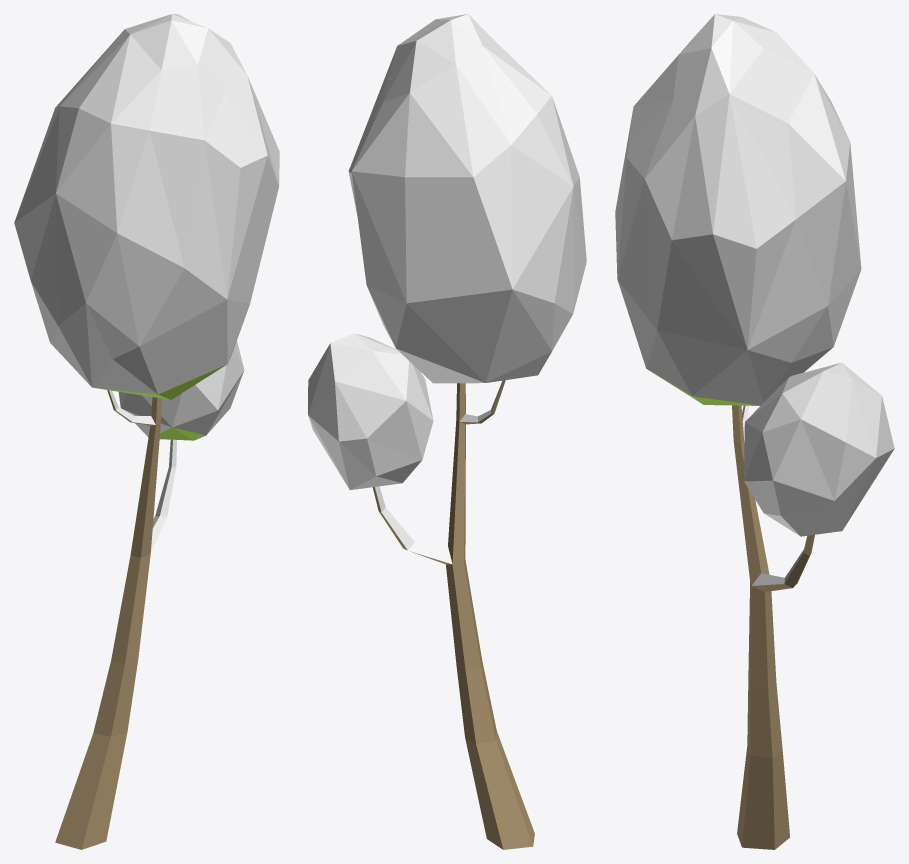
The model's file is Random_Tree_m_Snow_11_LOD.fbx.
3 views of the same model, side by side, from view 1: azimuth 30°, elevation 25°; view 2: azimuth 150°, elevation 25°; view 3: azimuth 270°, elevation 25° (orthographic). The views are drawn at different scales.
Parts seen in each view (by area): view 1: Random_Tree_m_Snow_11_LOD0; view 2: Random_Tree_m_Snow_11_LOD0; view 3: Random_Tree_m_Snow_11_LOD0.
Boxes of the visible parts, x1=… form: Random_Tree_m_Snow_11_LOD0: x1=14, y1=14, x2=279, y2=849; Random_Tree_m_Snow_11_LOD0: x1=308, y1=14, x2=586, y2=849; Random_Tree_m_Snow_11_LOD0: x1=615, y1=14, x2=894, y2=849.
Size of what is drawn, in the model's own units: 248 by 871 by 256.
